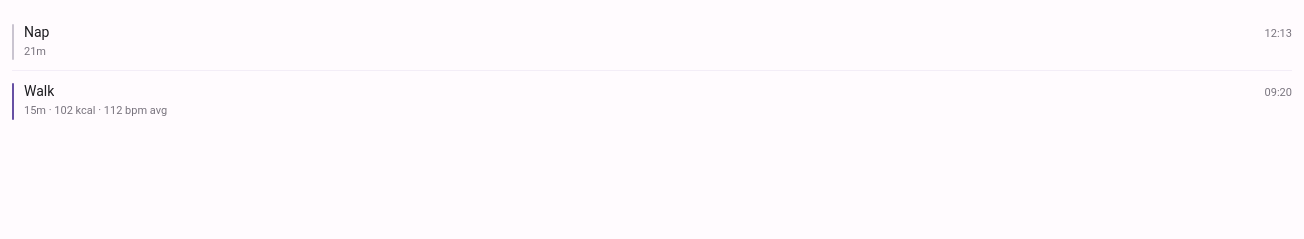
Test case: ActivityFeed › keeps distance, steps and zone minutes behind a tap
Expected: the text "Distance" is not shown
Click the text "Walk": click(39, 91) [24,81,54,101]
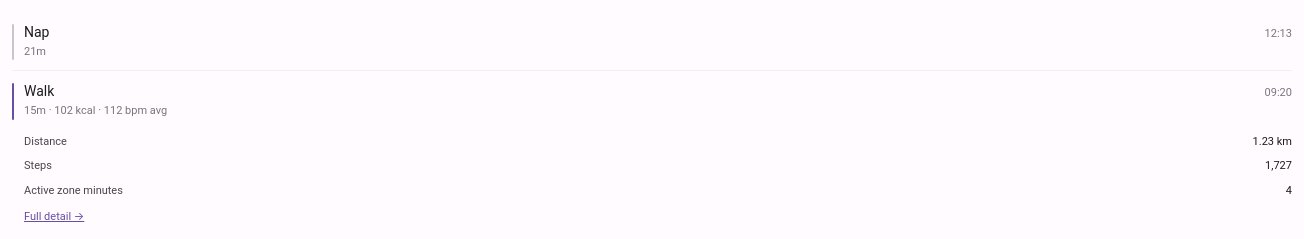
Result: the text "Distance" is shown at [24,134,67,150]
Result: the text "1.23 km" is shown at [1253,134,1292,150]
Result: the text "Active zone minutes" is shown at [24,183,123,199]
